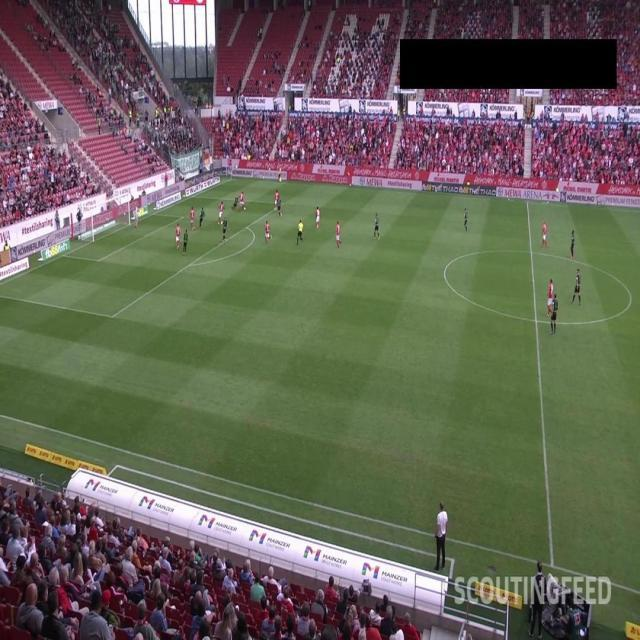ball: (244, 207, 247, 211)
goalkeeper: (134, 205, 140, 229)
player: (549, 293, 559, 335), (570, 268, 581, 306), (547, 278, 554, 317), (540, 221, 549, 248), (374, 212, 381, 241), (218, 200, 225, 225), (222, 217, 229, 242), (265, 220, 272, 245), (336, 221, 342, 249), (183, 228, 189, 255), (176, 222, 182, 249), (237, 191, 245, 211), (463, 208, 469, 233), (190, 206, 196, 231), (570, 230, 575, 259), (315, 206, 321, 230), (274, 189, 280, 212), (199, 206, 205, 228), (231, 195, 239, 211), (278, 198, 283, 217)
referee: (297, 219, 305, 245), (279, 165, 283, 183)
